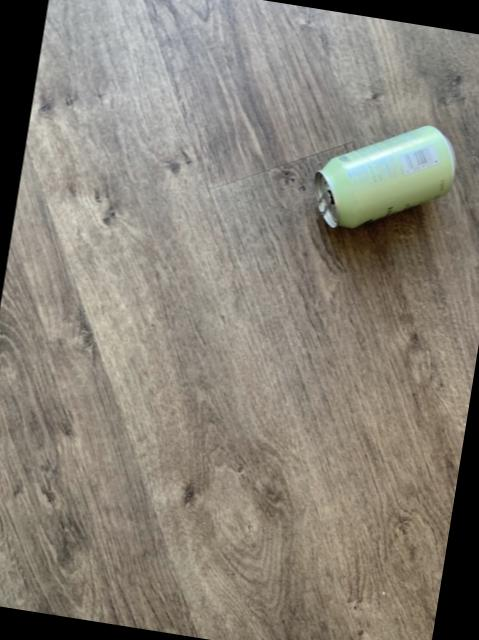metal: (313, 127, 453, 228)
